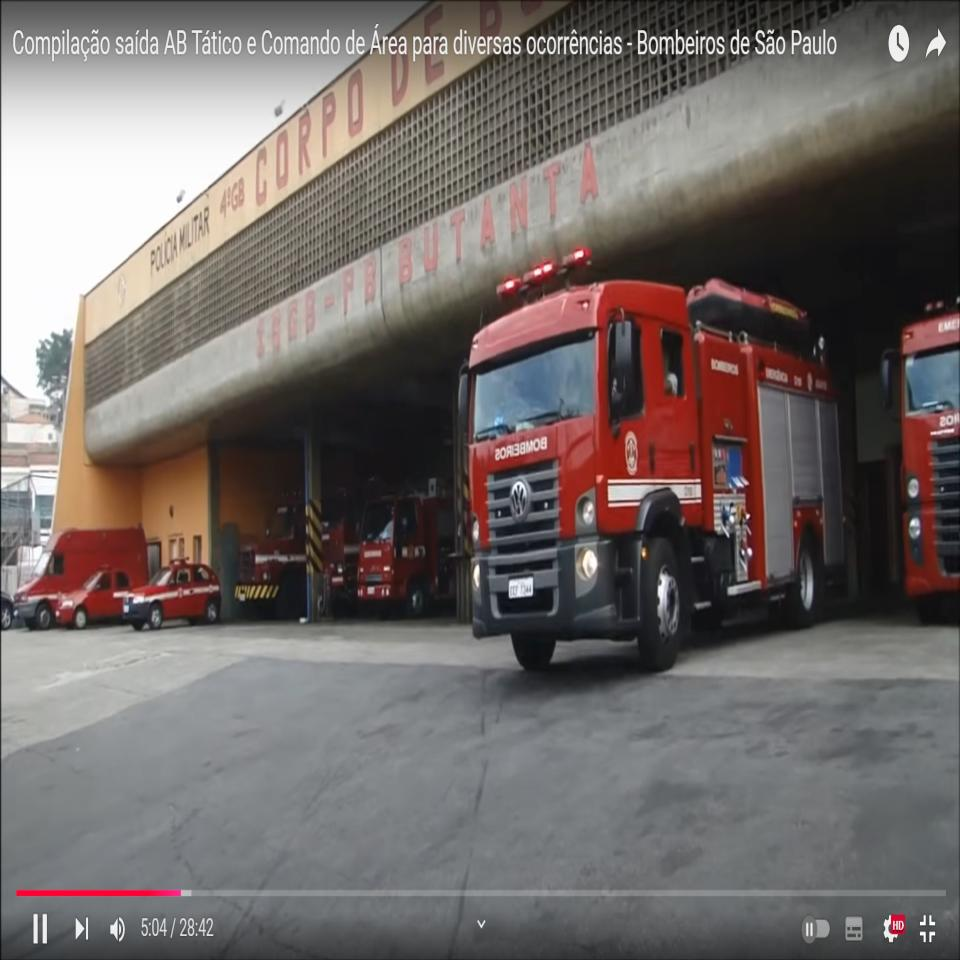viatura: (452, 246, 852, 670)
